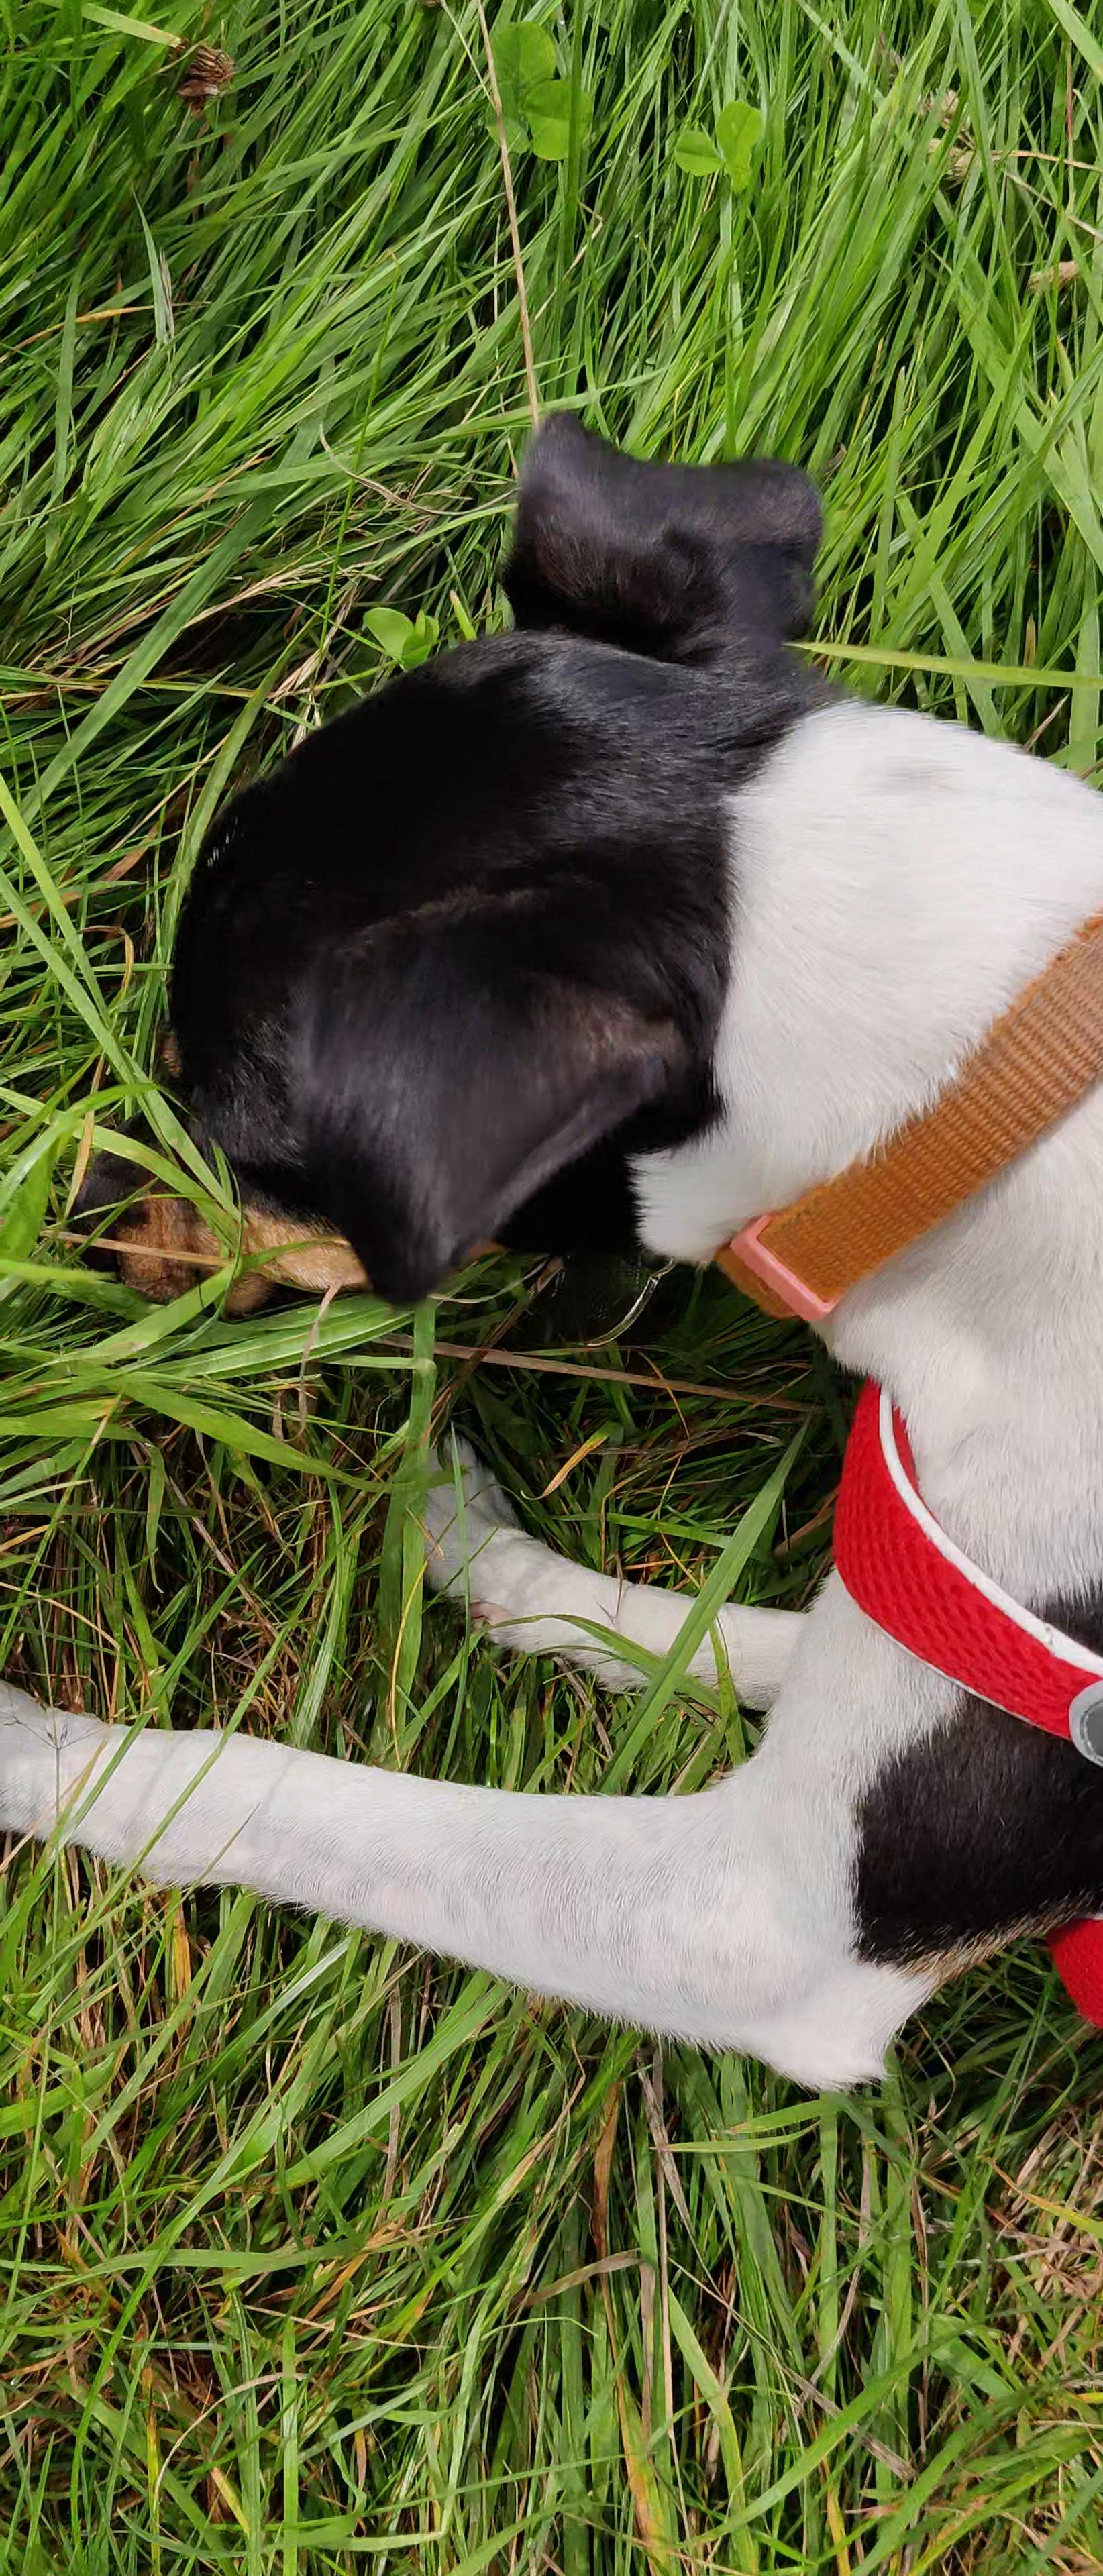Dog: (0, 376, 1103, 2131)
